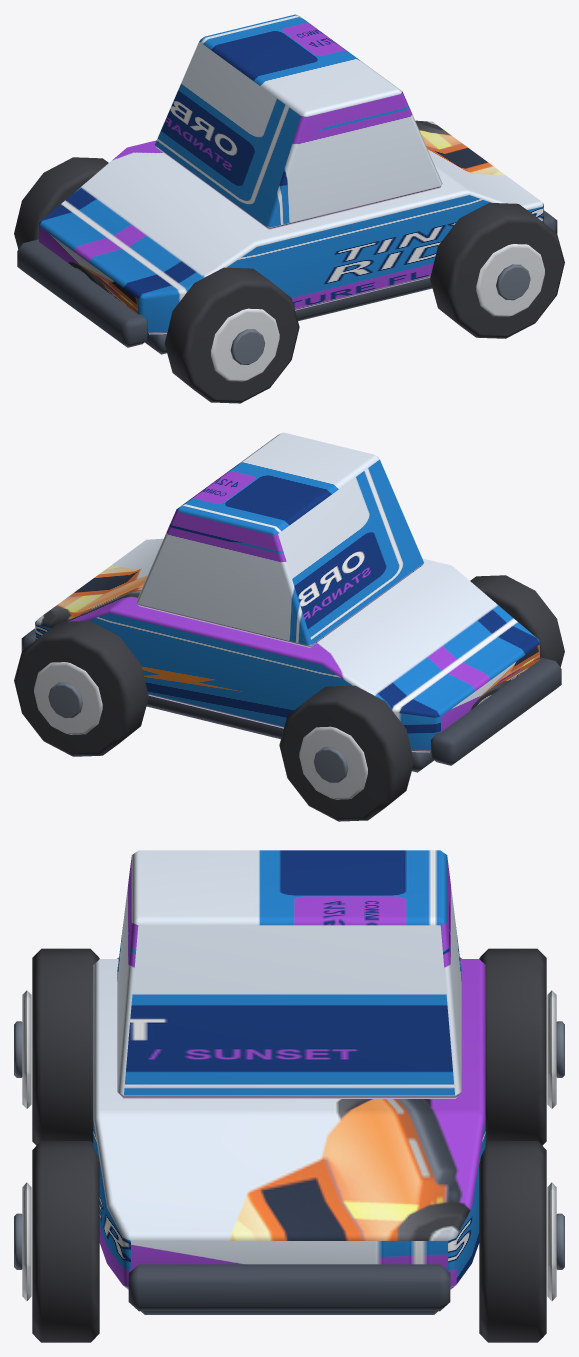
The picture shows the model from 3 angles, top to bottom: view 1: azimuth 30°, elevation 25°; view 2: azimuth 150°, elevation 25°; view 3: azimuth 270°, elevation 25°; orthographic projection. The views are drawn at different scales.
Parts seen in each view (by area): view 1: FF-02_connected_shell, FF-02_cabin, Tire.002, Tire, front bumper, Tire.001, Rim, Rim.002, underbody, Hub.002, Hub; view 2: FF-02_connected_shell, FF-02_cabin, Tire.003, Tire.001, front bumper, Tire, Rim.001, Rim.003, underbody, Hub.003, Hub.001; view 3: FF-02_cabin, FF-02_connected_shell, rear bumper, Tire.002, Tire.003, Tire, Tire.001, underbody, Rim, Rim.001, Rim.002, Rim.003.
Part boxes in pixels (<box>): FF-02_connected_shell: <box>39,120,543,334</box>; FF-02_cabin: <box>155,14,442,229</box>; Tire.002: <box>430,202,564,338</box>; Tire: <box>164,267,299,403</box>; front bumper: <box>17,239,148,347</box>; Tire.001: <box>14,157,108,248</box>; Rim: <box>211,308,279,381</box>; Rim.002: <box>476,244,544,316</box>; underbody: <box>144,277,432,354</box>; Hub.002: <box>496,264,530,300</box>; Hub: <box>230,329,265,364</box>; FF-02_connected_shell: <box>35,538,539,752</box>; FF-02_cabin: <box>136,432,423,647</box>; Tire.003: <box>14,620,148,756</box>; Tire.001: <box>279,685,414,821</box>; front bumper: <box>430,657,561,765</box>; Tire: <box>470,575,564,666</box>; Rim.001: <box>299,726,367,799</box>; Rim.003: <box>34,662,102,734</box>; underbody: <box>146,695,434,772</box>; Hub.003: <box>48,682,82,718</box>; Hub.001: <box>313,747,348,782</box>; FF-02_cabin: <box>117,850,461,1098</box>; FF-02_connected_shell: <box>93,957,485,1289</box>; rear bumper: <box>128,1264,450,1311</box>; Tire.002: <box>32,1141,99,1342</box>; Tire.003: <box>479,1141,546,1342</box>; Tire: <box>32,948,99,1145</box>; Tire.001: <box>479,948,546,1145</box>; underbody: <box>141,1311,437,1314</box>; Rim: <box>22,990,31,1108</box>; Rim.001: <box>547,990,556,1108</box>; Rim.002: <box>22,1182,31,1300</box>; Rim.003: <box>547,1182,556,1300</box>.
Bounding box in the file's own units: 288 × 154 × 212.
